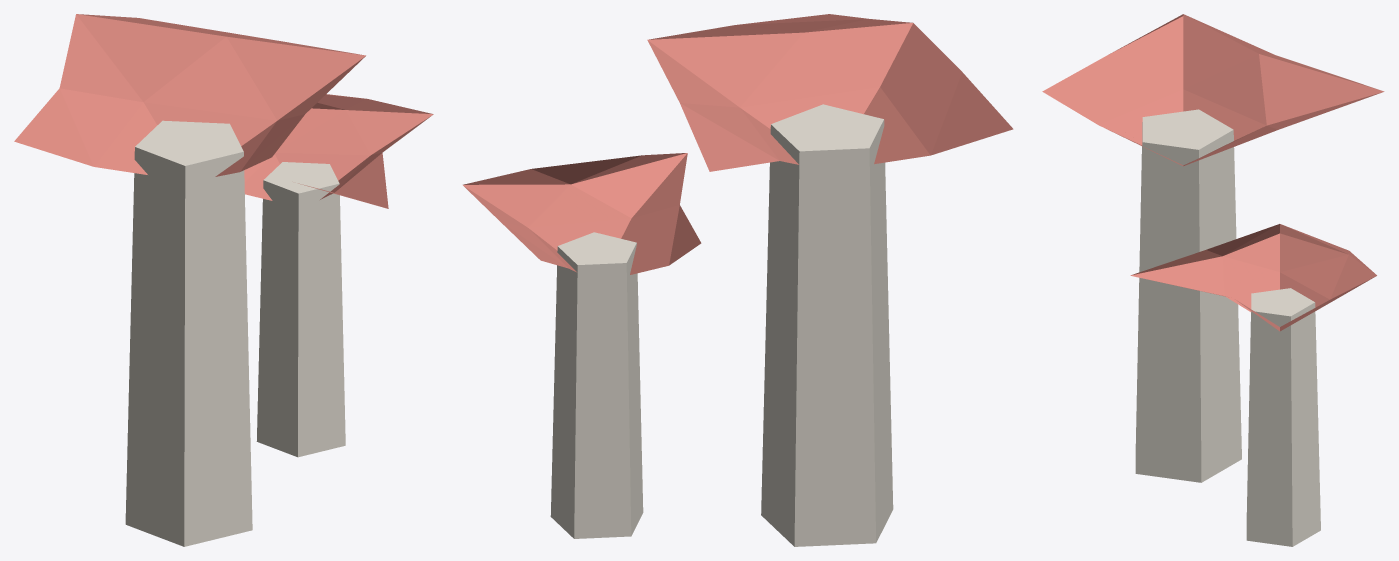
The model's file is mushroom_v24.glb.
3 views of the same model, side by side, from view 1: azimuth 30°, elevation 25°; view 2: azimuth 150°, elevation 25°; view 3: azimuth 270°, elevation 25° (orthographic). The views are drawn at different scales.
Parts seen in each view (by area): view 1: lod0; view 2: lod0; view 3: lod0.
Boxes of the visible parts, left/top/right/bottom form: lod0: left=14, top=14, right=433, bottom=546; lod0: left=463, top=14, right=1013, bottom=546; lod0: left=1042, top=14, right=1384, bottom=546.
Size of what is drawn, in the model's own units: 0.343 by 0.3366 by 0.245.
